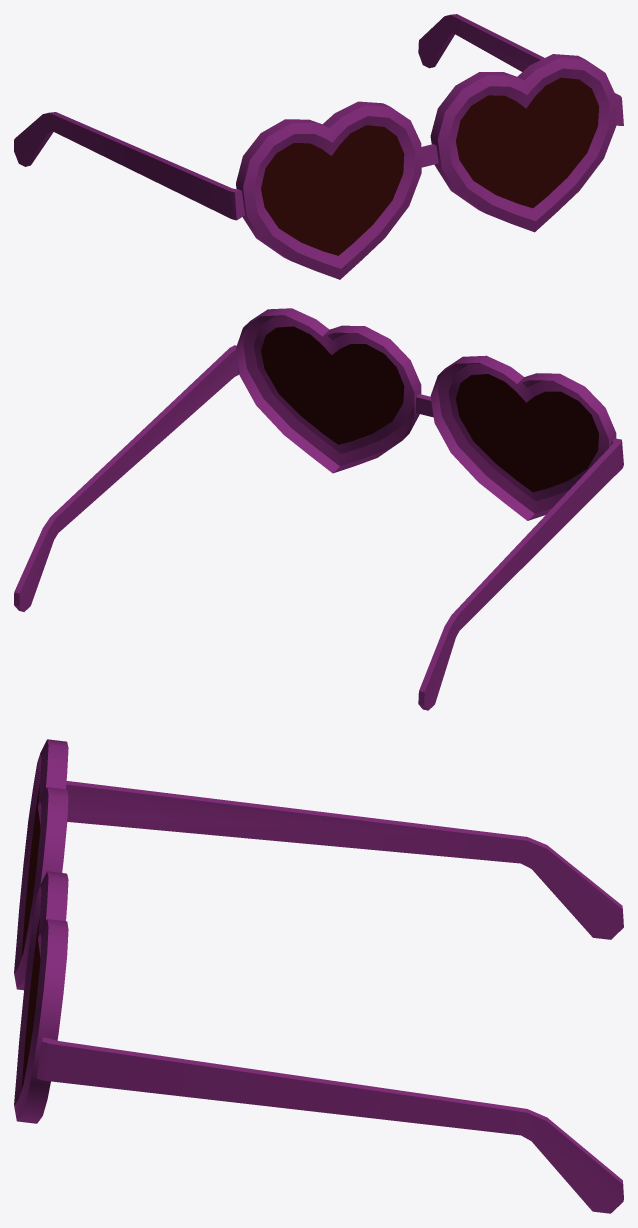
Rendered from Sunglass4.fbx.
The picture shows the model from 3 angles, top to bottom: view 1: azimuth 30°, elevation 25°; view 2: azimuth 150°, elevation 25°; view 3: azimuth 270°, elevation 25°; orthographic projection. The views are drawn at different scales.
Visible parts, largest first — view 1: HeartSunglasses_HeartSunglasses_0; view 2: HeartSunglasses_HeartSunglasses_0; view 3: HeartSunglasses_HeartSunglasses_0.
Boxes of the visible parts, x1=… form: HeartSunglasses_HeartSunglasses_0: x1=14, y1=14, x2=623, y2=279; HeartSunglasses_HeartSunglasses_0: x1=14, y1=308, x2=623, y2=710; HeartSunglasses_HeartSunglasses_0: x1=14, y1=739, x2=623, y2=1213.
Size of the model in its own units: 39.58 by 36.67 by 15.82.
